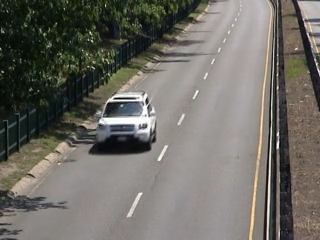car: (91, 87, 164, 151)
